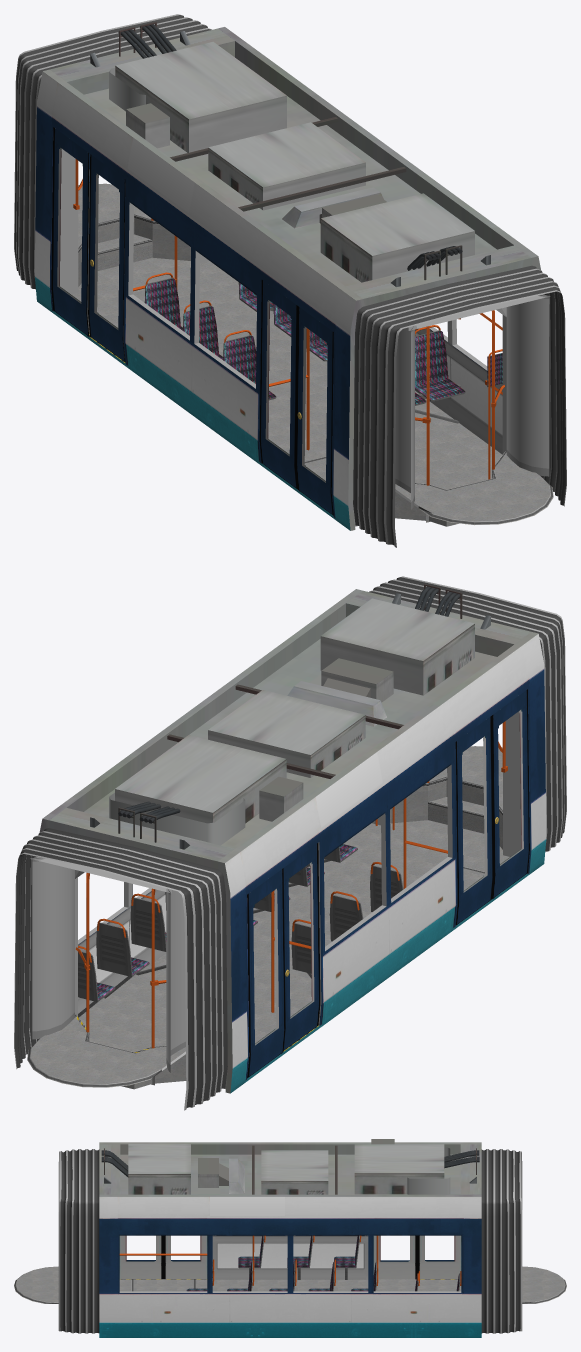
File: astra_s.obj
3 renders of one model, top to bottom at view 1: azimuth 30°, elevation 25°; view 2: azimuth 150°, elevation 25°; view 3: azimuth 270°, elevation 25°, orthographic. The views are drawn at different scales.
Parts seen in each view (by area): view 1: EXT, INT, DOOR_A, DOOR_B; view 2: EXT, INT, DOOR_A, DOOR_B; view 3: EXT, INT, DOOR_A, DOOR_B.
Boxes of the visible parts, x1,y1,x2,y2 form: EXT: (14, 14, 566, 547); INT: (60, 41, 553, 526); DOOR_A: (51, 127, 297, 488); DOOR_B: (88, 154, 333, 515); EXT: (14, 576, 566, 1110); INT: (27, 711, 521, 1089); DOOR_A: (247, 716, 493, 1077); DOOR_B: (283, 689, 529, 1050); EXT: (58, 1139, 522, 1337); INT: (14, 1235, 566, 1303); DOOR_A: (163, 1235, 461, 1278); DOOR_B: (119, 1235, 417, 1279).
Size of the model in its own units: 2.57 by 3.16 by 10.2.
16 materials, 15 textured.
